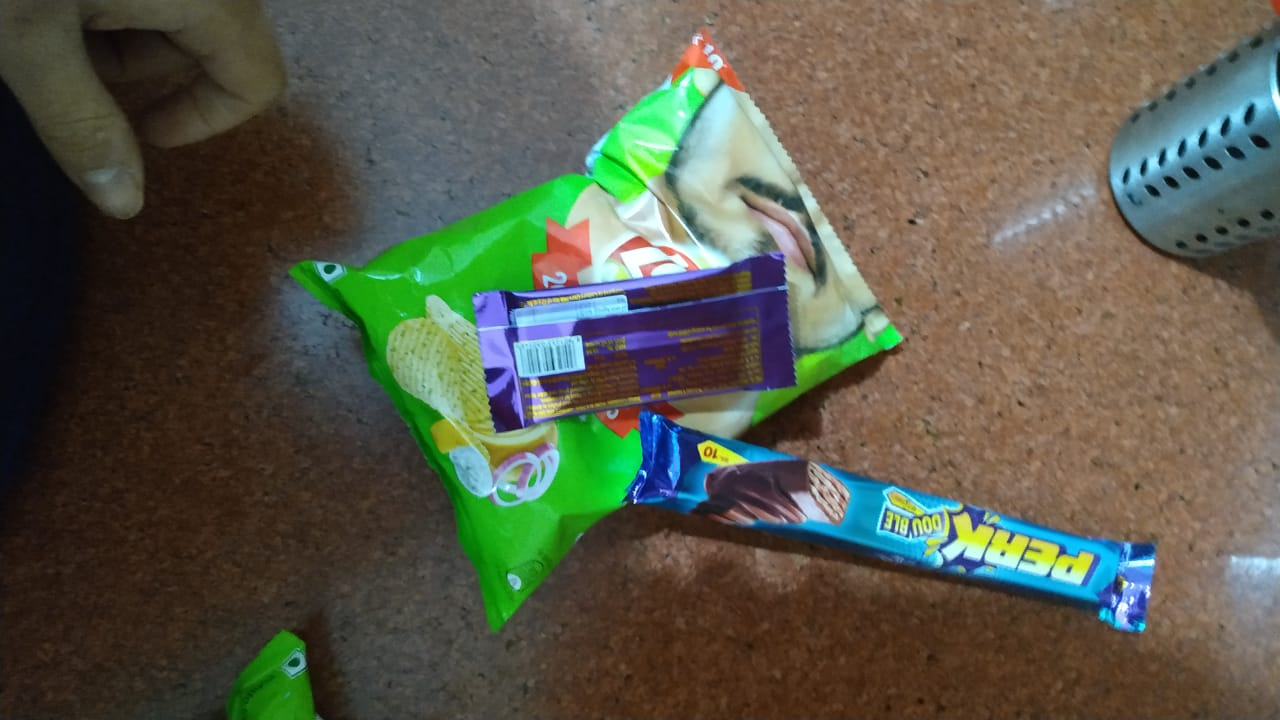dairy milk: (470, 248, 809, 436)
perk: (632, 411, 1162, 635)
